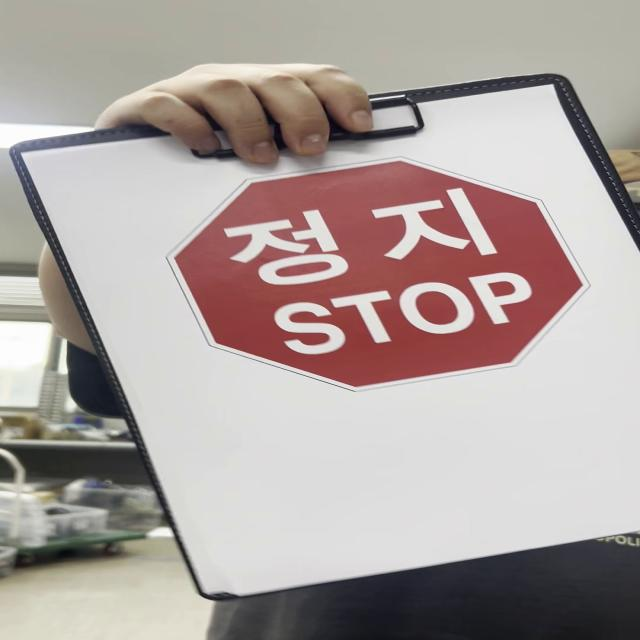stop: (163, 159, 603, 396)
